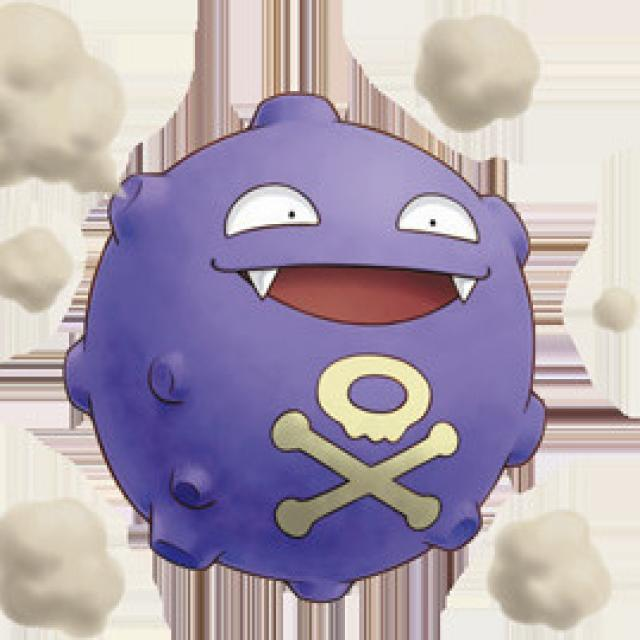Koffing: (71, 92, 538, 596)
